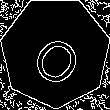O_NE: (23, 19, 87, 86)
